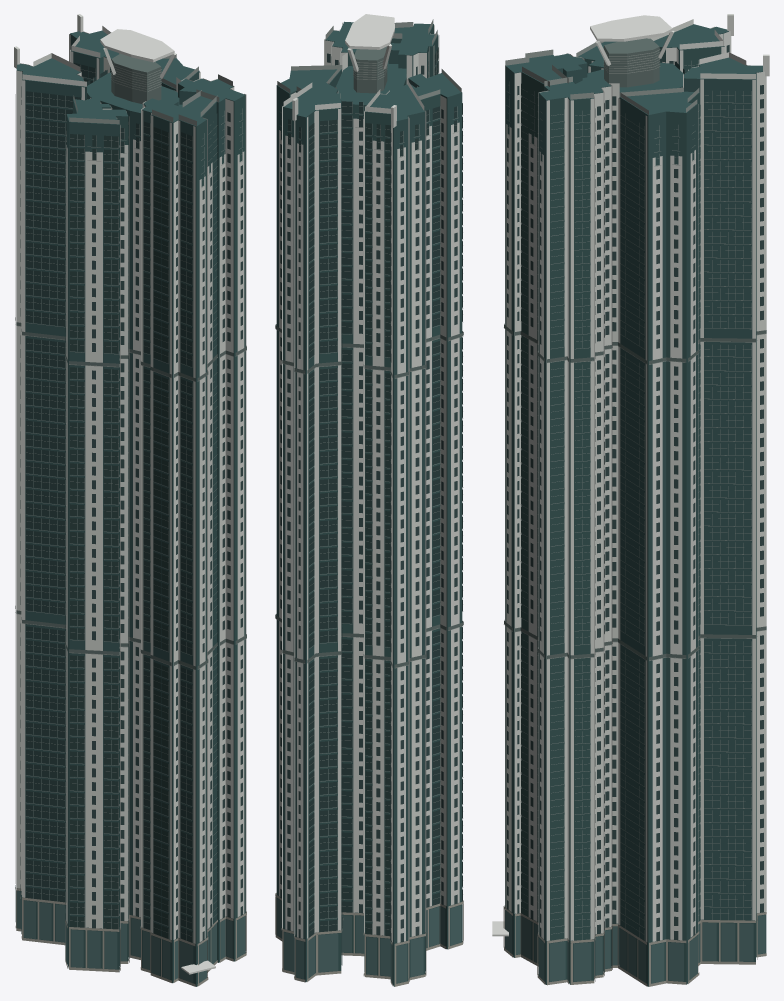
Rendered from bespoke-skyl65-c.glb.
The picture shows the model from 3 angles, left to right: view 1: azimuth 30°, elevation 25°; view 2: azimuth 150°, elevation 25°; view 3: azimuth 270°, elevation 25°; orthographic projection. The views are drawn at different scales.
Parts seen in each view (by area): view 1: C_02_large_white_end_piers, C_03_glass_bays_and_recessed_windows001_1, C_01_six-wing_concave_structure, C_04_fine_mullions_and_refuge_reveals001, C_03_glass_bays_and_recessed_windows001_2, C_05_asymmetric_penthouse_and_crown001_1, C_06_three-storey_retail_and_entries001_2, C_03_glass_bays_and_recessed_windows001, C_06_three-storey_retail_and_entries001, C_05_asymmetric_penthouse_and_crown001_4, C_04_fine_mullions_and_refuge_reveals001_1, C_05_asymmetric_penthouse_and_crown001_2 (+2 smaller); view 2: C_02_large_white_end_piers, C_01_six-wing_concave_structure, C_03_glass_bays_and_recessed_windows001_1, C_03_glass_bays_and_recessed_windows001_2, C_04_fine_mullions_and_refuge_reveals001, C_05_asymmetric_penthouse_and_crown001_1, C_06_three-storey_retail_and_entries001_2, C_06_three-storey_retail_and_entries001, C_04_fine_mullions_and_refuge_reveals001_1, C_05_asymmetric_penthouse_and_crown001_3, C_05_asymmetric_penthouse_and_crown001_4, C_05_asymmetric_penthouse_and_crown001_2 (+1 smaller); view 3: C_02_large_white_end_piers, C_03_glass_bays_and_recessed_windows001, C_01_six-wing_concave_structure, C_03_glass_bays_and_recessed_windows001_2, C_04_fine_mullions_and_refuge_reveals001, C_06_three-storey_retail_and_entries001_2, C_05_asymmetric_penthouse_and_crown001_1, C_06_three-storey_retail_and_entries001, C_05_asymmetric_penthouse_and_crown001_4, C_04_fine_mullions_and_refuge_reveals001_1, C_05_asymmetric_penthouse_and_crown001_2, C_05_asymmetric_penthouse_and_crown001 (+1 smaller).
Boxes of the visible parts, x1,y1,x2,y2 form: C_02_large_white_end_piers: (15,31,246,943); C_03_glass_bays_and_recessed_windows001_1: (21,46,192,942); C_01_six-wing_concave_structure: (16,48,245,986); C_04_fine_mullions_and_refuge_reveals001: (15,65,246,942); C_03_glass_bays_and_recessed_windows001_2: (20,70,242,940); C_05_asymmetric_penthouse_and_crown001_1: (16,30,245,139); C_06_three-storey_retail_and_entries001_2: (15,885,245,982); C_03_glass_bays_and_recessed_windows001: (119,108,242,926); C_06_three-storey_retail_and_entries001: (15,887,246,986); C_05_asymmetric_penthouse_and_crown001_4: (111,53,161,104); C_04_fine_mullions_and_refuge_reveals001_1: (15,317,246,669); C_05_asymmetric_penthouse_and_crown001_2: (69,54,232,125); C_02_large_white_end_piers: (279,22,459,942); C_01_six-wing_concave_structure: (276,56,462,986); C_03_glass_bays_and_recessed_windows001_1: (288,47,462,937); C_03_glass_bays_and_recessed_windows001_2: (280,53,457,942); C_04_fine_mullions_and_refuge_reveals001: (275,51,463,934); C_05_asymmetric_penthouse_and_crown001_1: (276,21,462,135); C_06_three-storey_retail_and_entries001_2: (277,898,462,983); C_06_three-storey_retail_and_entries001: (275,893,463,986); C_04_fine_mullions_and_refuge_reveals001_1: (275,324,463,667); C_05_asymmetric_penthouse_and_crown001_3: (345,14,394,49); C_05_asymmetric_penthouse_and_crown001_4: (353,46,387,93); C_05_asymmetric_penthouse_and_crown001_2: (277,19,461,99); C_02_large_white_end_piers: (505,26,766,941); C_03_glass_bays_and_recessed_windows001: (507,60,751,940); C_01_six-wing_concave_structure: (505,59,766,986); C_03_glass_bays_and_recessed_windows001_2: (507,45,763,941); C_04_fine_mullions_and_refuge_reveals001: (504,60,766,940); C_06_three-storey_retail_and_entries001_2: (505,910,765,983); C_05_asymmetric_penthouse_and_crown001_1: (505,24,762,115); C_06_three-storey_retail_and_entries001: (503,905,766,986); C_05_asymmetric_penthouse_and_crown001_4: (604,38,659,87); C_04_fine_mullions_and_refuge_reveals001_1: (504,323,766,660); C_05_asymmetric_penthouse_and_crown001_2: (505,41,699,114); C_05_asymmetric_penthouse_and_crown001: (595,14,769,79).
Size of the model in its own units: 35.51 by 193 by 52.58.
